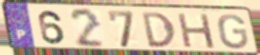2: (69, 7, 109, 50)
6: (36, 9, 67, 46)
7: (106, 10, 137, 49)
D: (140, 11, 178, 49)
G: (216, 13, 250, 50)
H: (176, 12, 217, 50)
